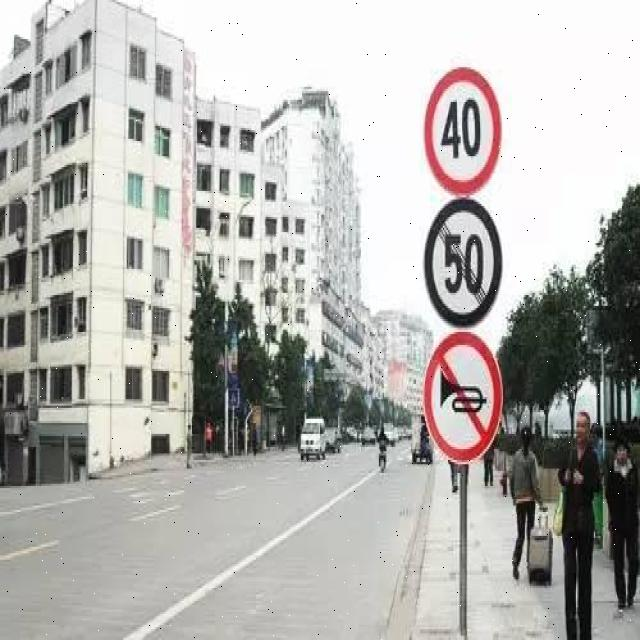speed limit 40: (425, 63, 501, 195)
